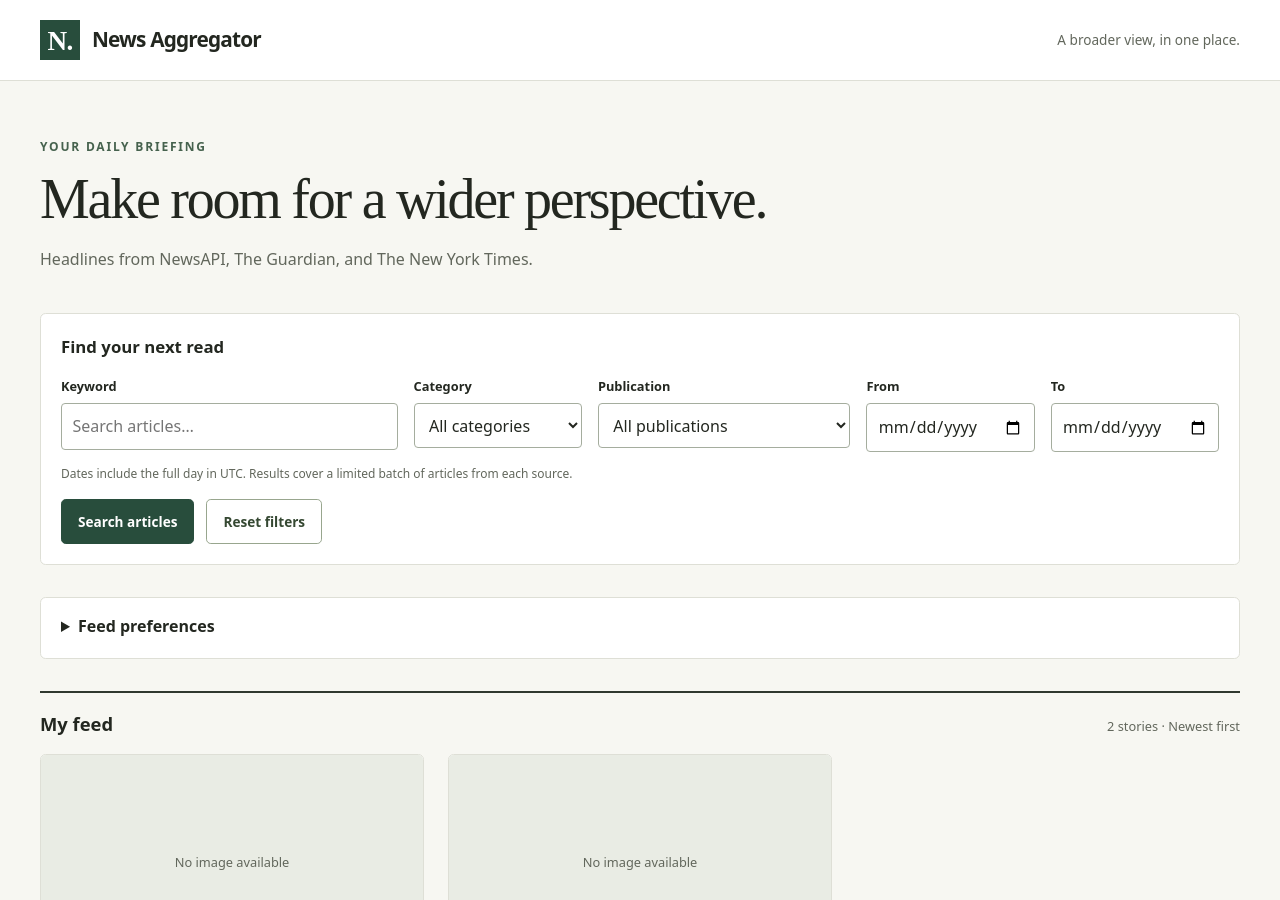
Test case: keeps search independent of preferences and restores them with My feed
Even an empty submitted search must bypass feed preferences.
Step 1. Click the button "Search articles" → {"x": 128, "y": 521}, box [61,499,194,544]
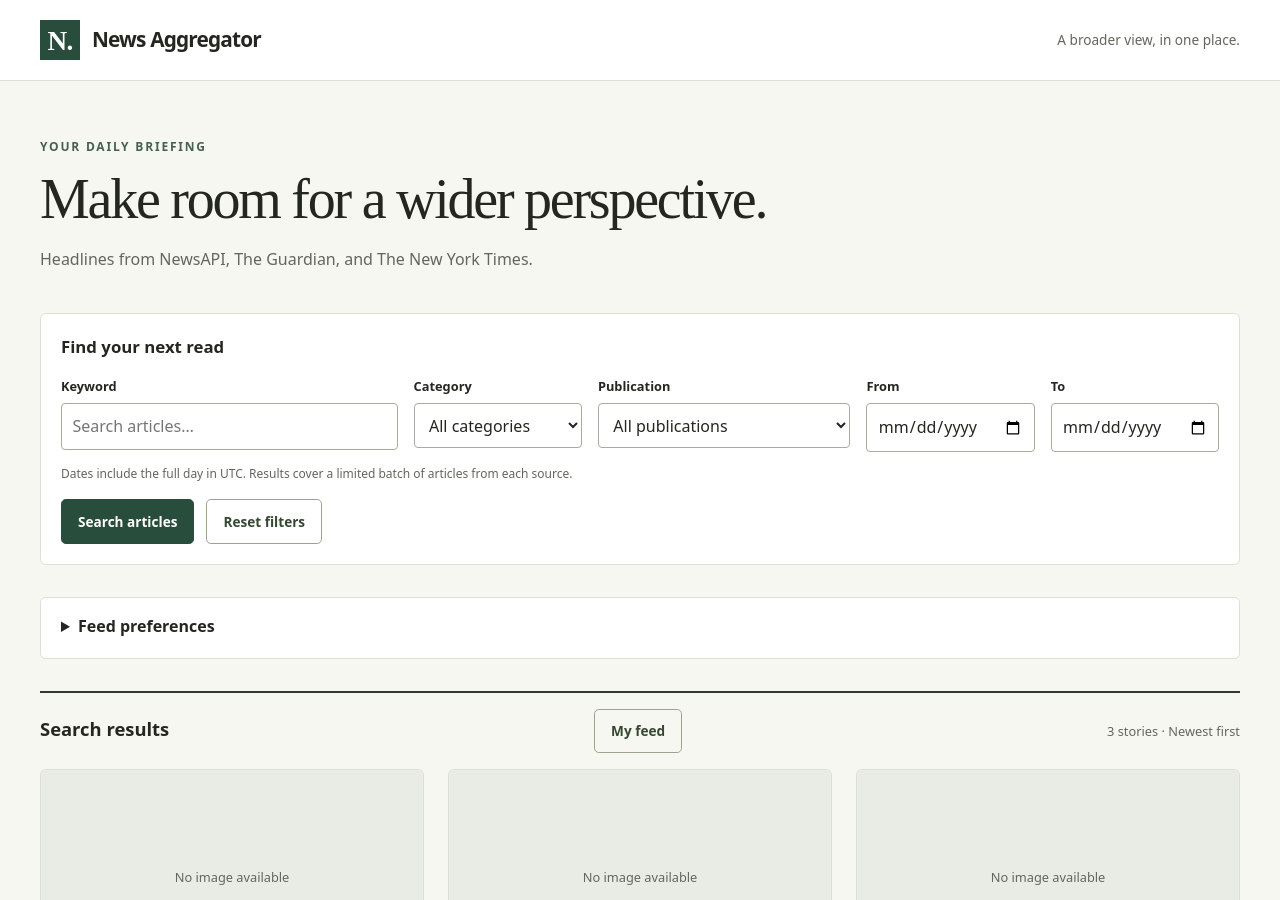
Now the heading "Search results" is shown, box [40,714,169,744]
Step 2. Click the button "My feed" → {"x": 638, "y": 731}, box [594,709,682,753]
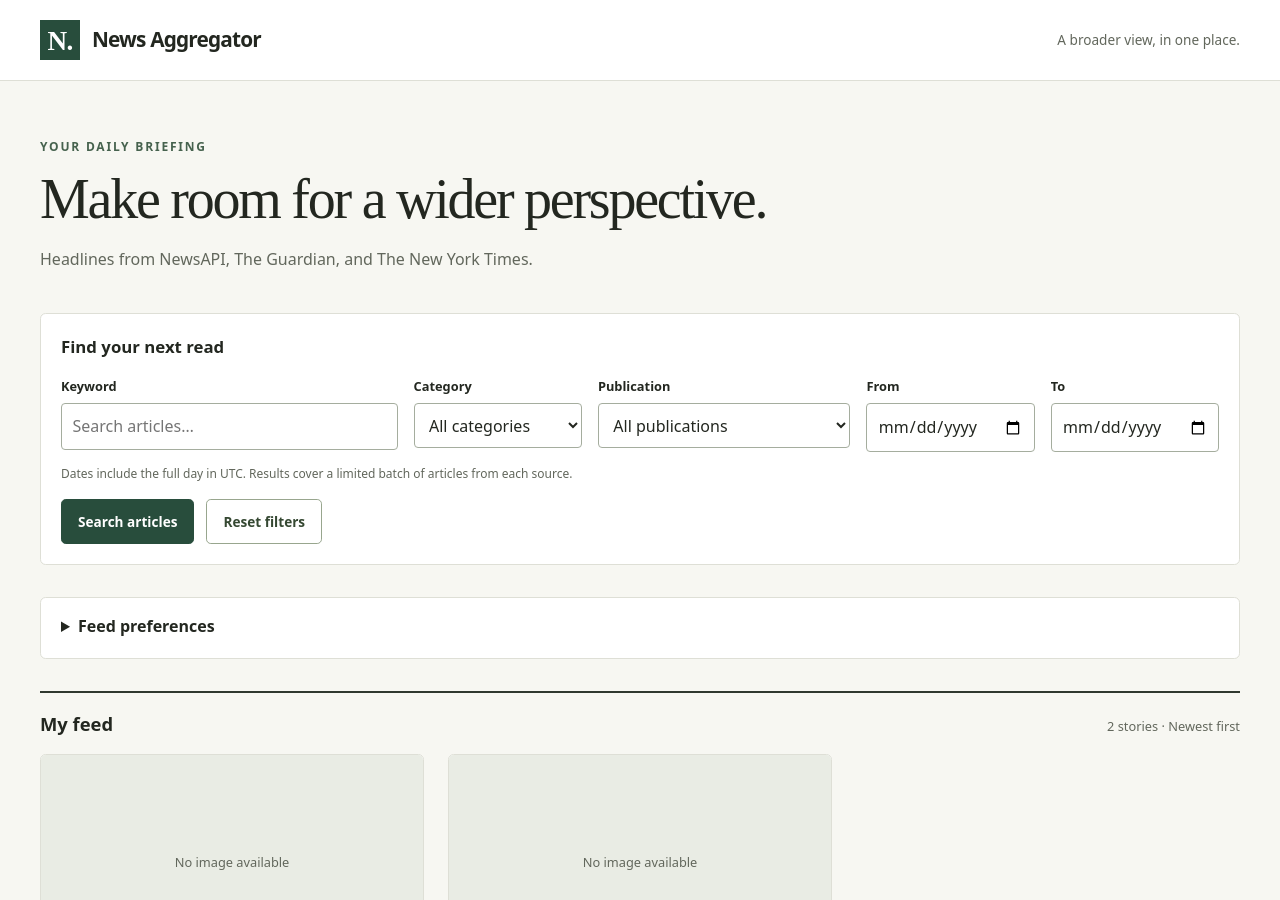
Now the heading "My feed" is shown, box [40,709,113,738]
